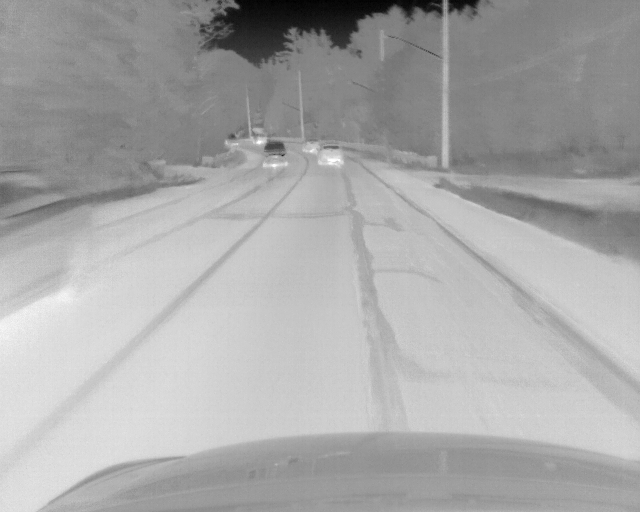car: (1, 169, 94, 320), (261, 140, 288, 169), (318, 144, 344, 168), (302, 139, 319, 154), (250, 134, 268, 145)
